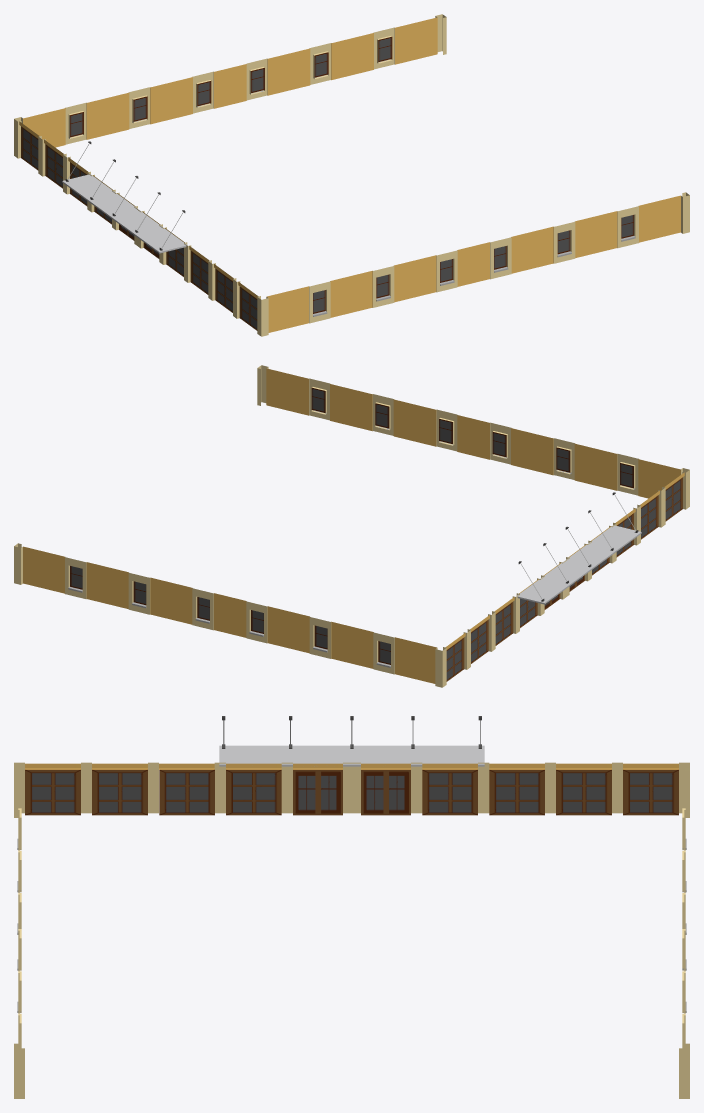
The model's file is BuildingBig2_1.fbx.
3 renders of one model, top to bottom at view 1: azimuth 30°, elevation 25°; view 2: azimuth 150°, elevation 25°; view 3: azimuth 270°, elevation 25°, orthographic. The views are drawn at different scales.
Parts seen in each view (by area): view 1: BuildingBig2_1; view 2: BuildingBig2_1; view 3: BuildingBig2_1.
Part boxes in pixels (left/top/right/bottom): BuildingBig2_1: left=14, top=14, right=689, bottom=336; BuildingBig2_1: left=14, top=365, right=689, bottom=687; BuildingBig2_1: left=14, top=716, right=689, bottom=1098.
Size of the model in its own units: 6440 by 948 by 6060.
